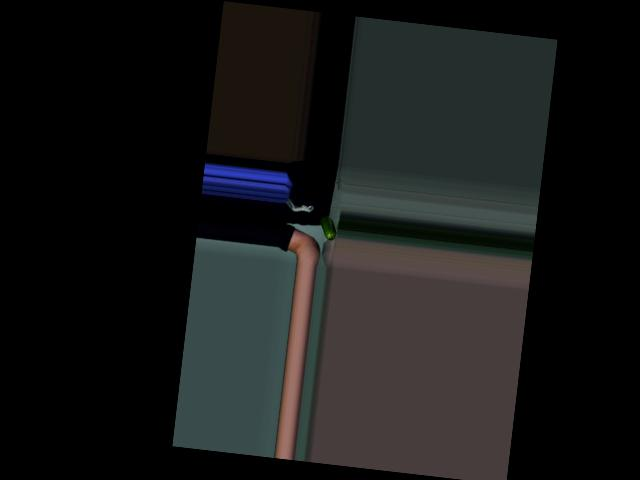cucumber: (318, 215, 338, 241)
